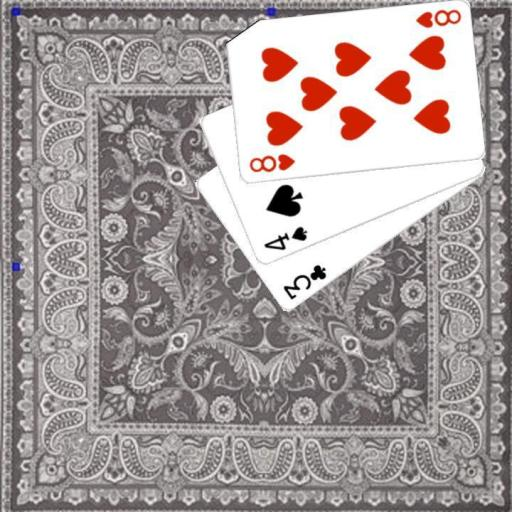card-corner: (279, 262, 328, 302), (260, 224, 309, 252), (412, 6, 462, 30), (246, 151, 297, 174)
